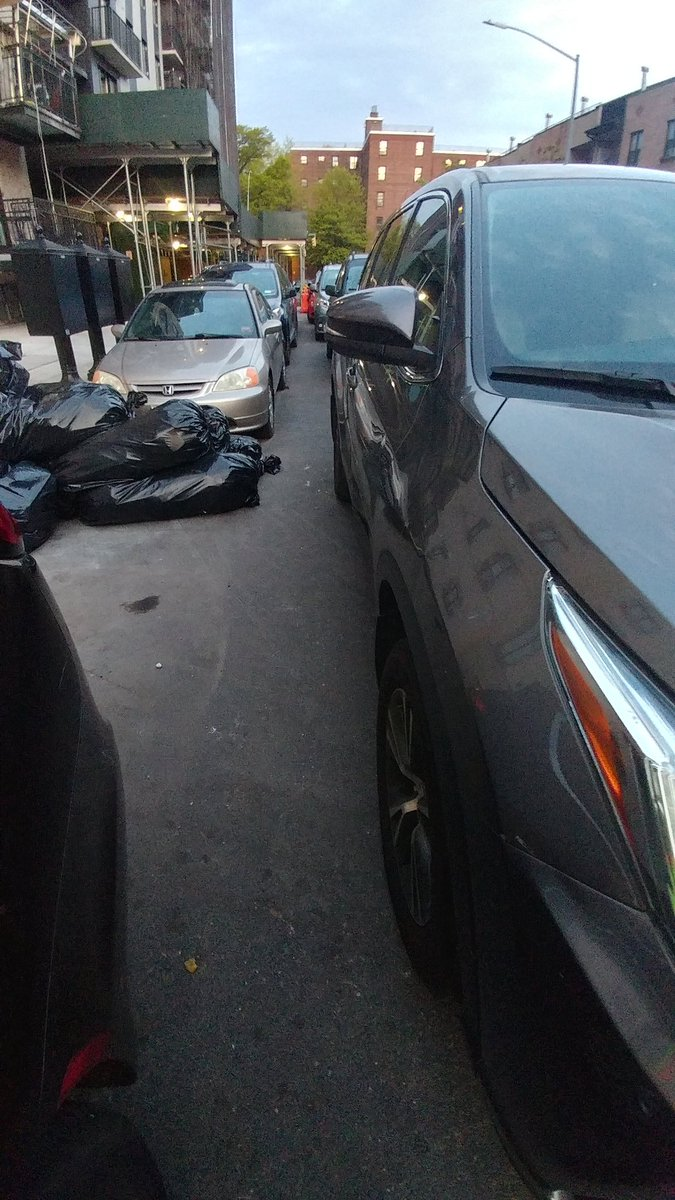building: (1, 1, 252, 266), (297, 134, 474, 242), (515, 97, 675, 197)
car: (311, 212, 675, 1200), (84, 266, 293, 431)
sky: (258, 1, 675, 133)
trash: (1, 355, 284, 527)
